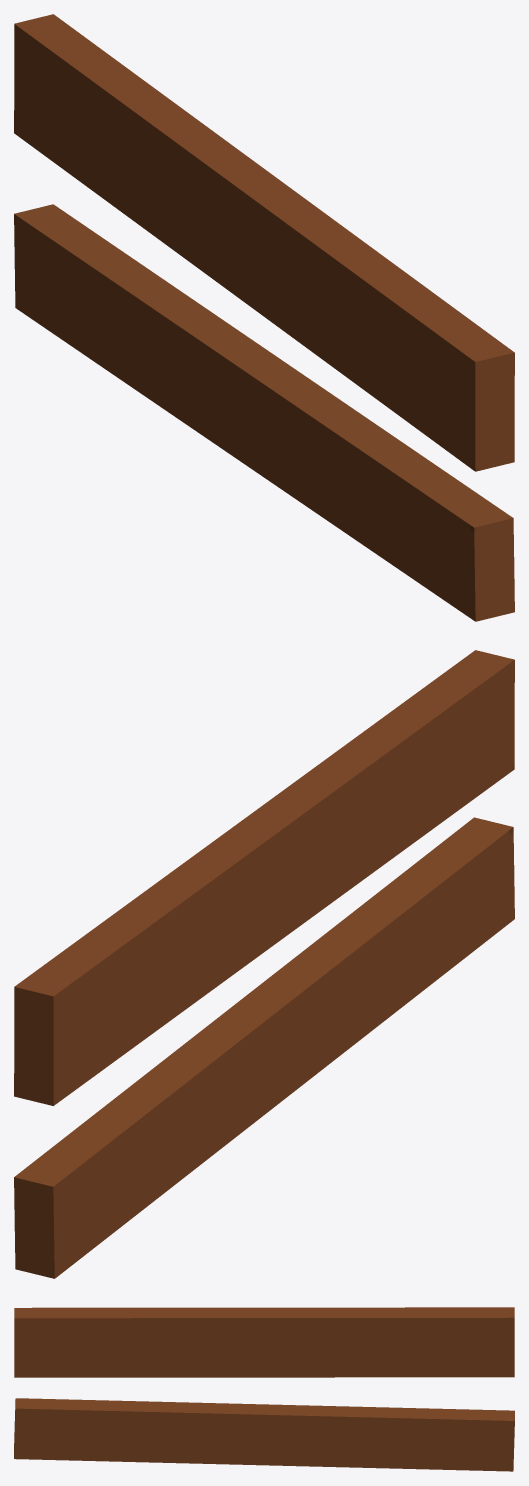
Rendered from Fence_planks2_decoration.fbx.
3 views of the same model, one above another, from view 1: azimuth 30°, elevation 25°; view 2: azimuth 150°, elevation 25°; view 3: azimuth 270°, elevation 25° (orthographic). The views are drawn at different scales.
Visible parts, largest first — view 1: Fence_planks2_decoration; view 2: Fence_planks2_decoration; view 3: Fence_planks2_decoration.
Boxes of the visible parts, <box> form: Fence_planks2_decoration: <box>14,14,514,621</box>; Fence_planks2_decoration: <box>14,650,514,1278</box>; Fence_planks2_decoration: <box>14,1307,514,1471</box>.
Bounding box in the file's own units: 14.78 × 102 × 300.
